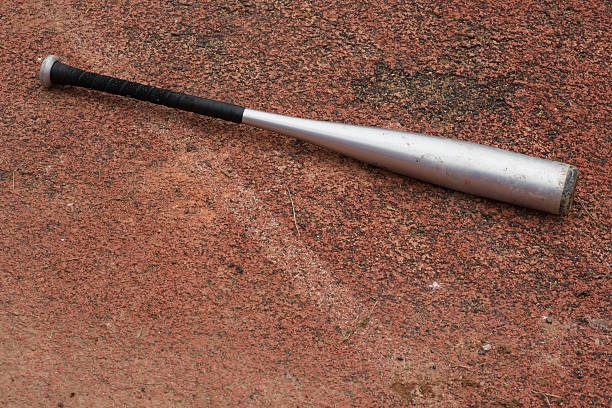bita: (40, 57, 580, 216)
